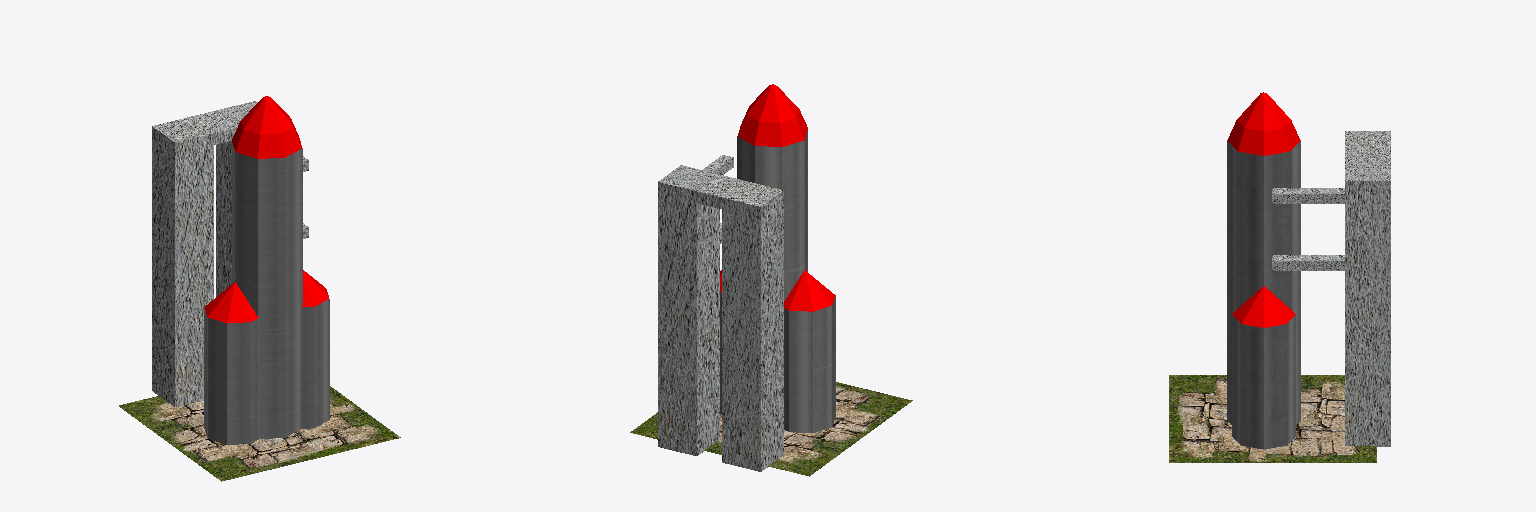
3 renders of one model, left to right at view 1: azimuth 30°, elevation 25°; view 2: azimuth 150°, elevation 25°; view 3: azimuth 270°, elevation 25°, orthographic.
Bounding box in the file's own units: 2 × 3.51 × 2.13.
Materials: 4 (3 with a texture image).